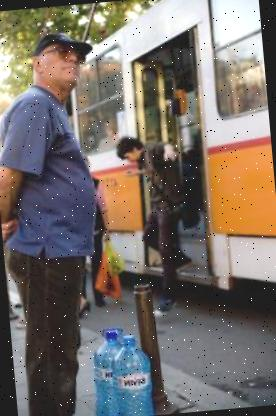person: (0, 20, 124, 416), (109, 125, 201, 320)
